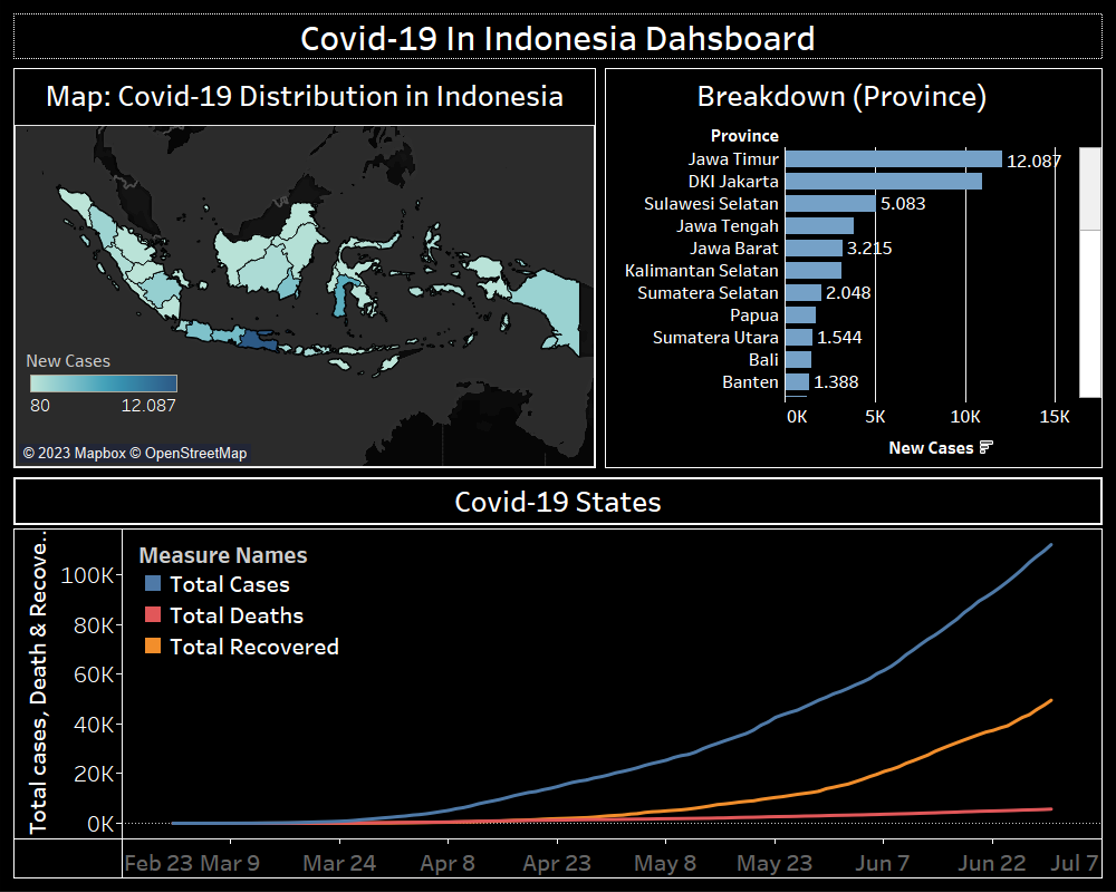

This screenshot's page, from the dashboard's own definition file:
{"tool":"tableau","page":{"name":"Dashboard 1","canvas":[1000,800],"ordinal":0},"visuals":[{"type":"title","box":[8,8,984,49]},{"type":"worksheet","title":"Distribution Maps","mark":"Automatic","box":[8,57,530,367.5]},{"type":"worksheet","title":"Breakdown (Province)","mark":"Automatic","rows":["Province"],"cols":["New Cases"],"box":[538,57,454,367.5]},{"type":"legend","title":"Distribution Maps","param":"[federated.16badyk05u1ond1b3r8dk07j43qn].[sum:New Cases:qk]","box":[23,309,140,88]},{"type":"worksheet","title":"Covid States","mark":"Automatic","cols":["Date"],"box":[8,424.5,984,367.5]},{"type":"legend","title":"Covid States","param":"[federated.16badyk05u1ond1b3r8dk07j43qn].[:Measure Names]","box":[123,481,186,112]}]}

Visuals, with their boxes in screenshot pixels (x1, y1, x2, y2), scaled from the page's 1000x800 canvas onto the 1116x892 screenshot:
title: l=9, t=9, r=1107, b=64
"Distribution Maps" worksheet: l=9, t=64, r=600, b=473
"Breakdown (Province)" worksheet: l=600, t=64, r=1107, b=473
"Distribution Maps" legend: l=26, t=345, r=182, b=443
"Covid States" worksheet: l=9, t=473, r=1107, b=883
"Covid States" legend: l=137, t=536, r=345, b=661
